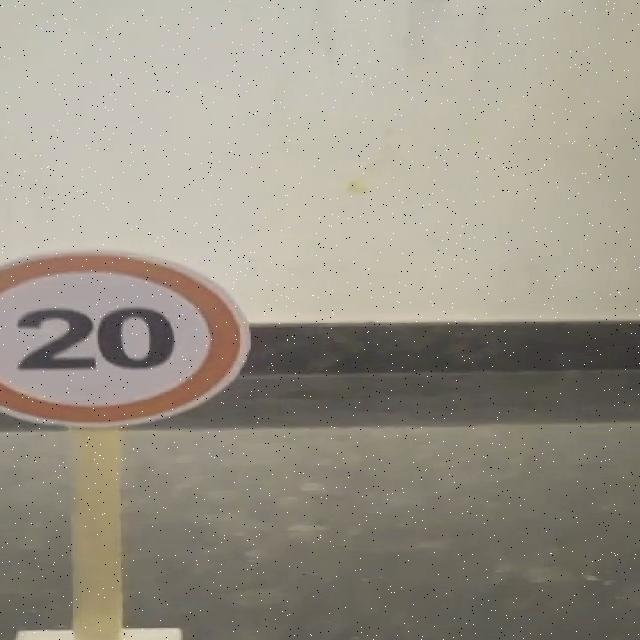Speed20: (0, 240, 272, 434)
